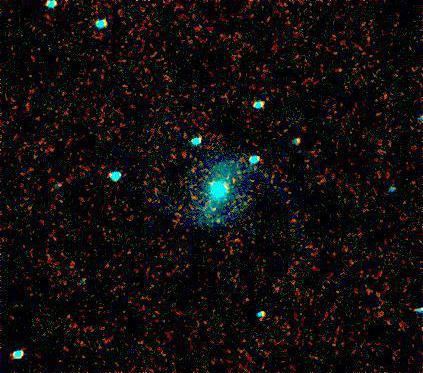star: (201, 198, 231, 228)
